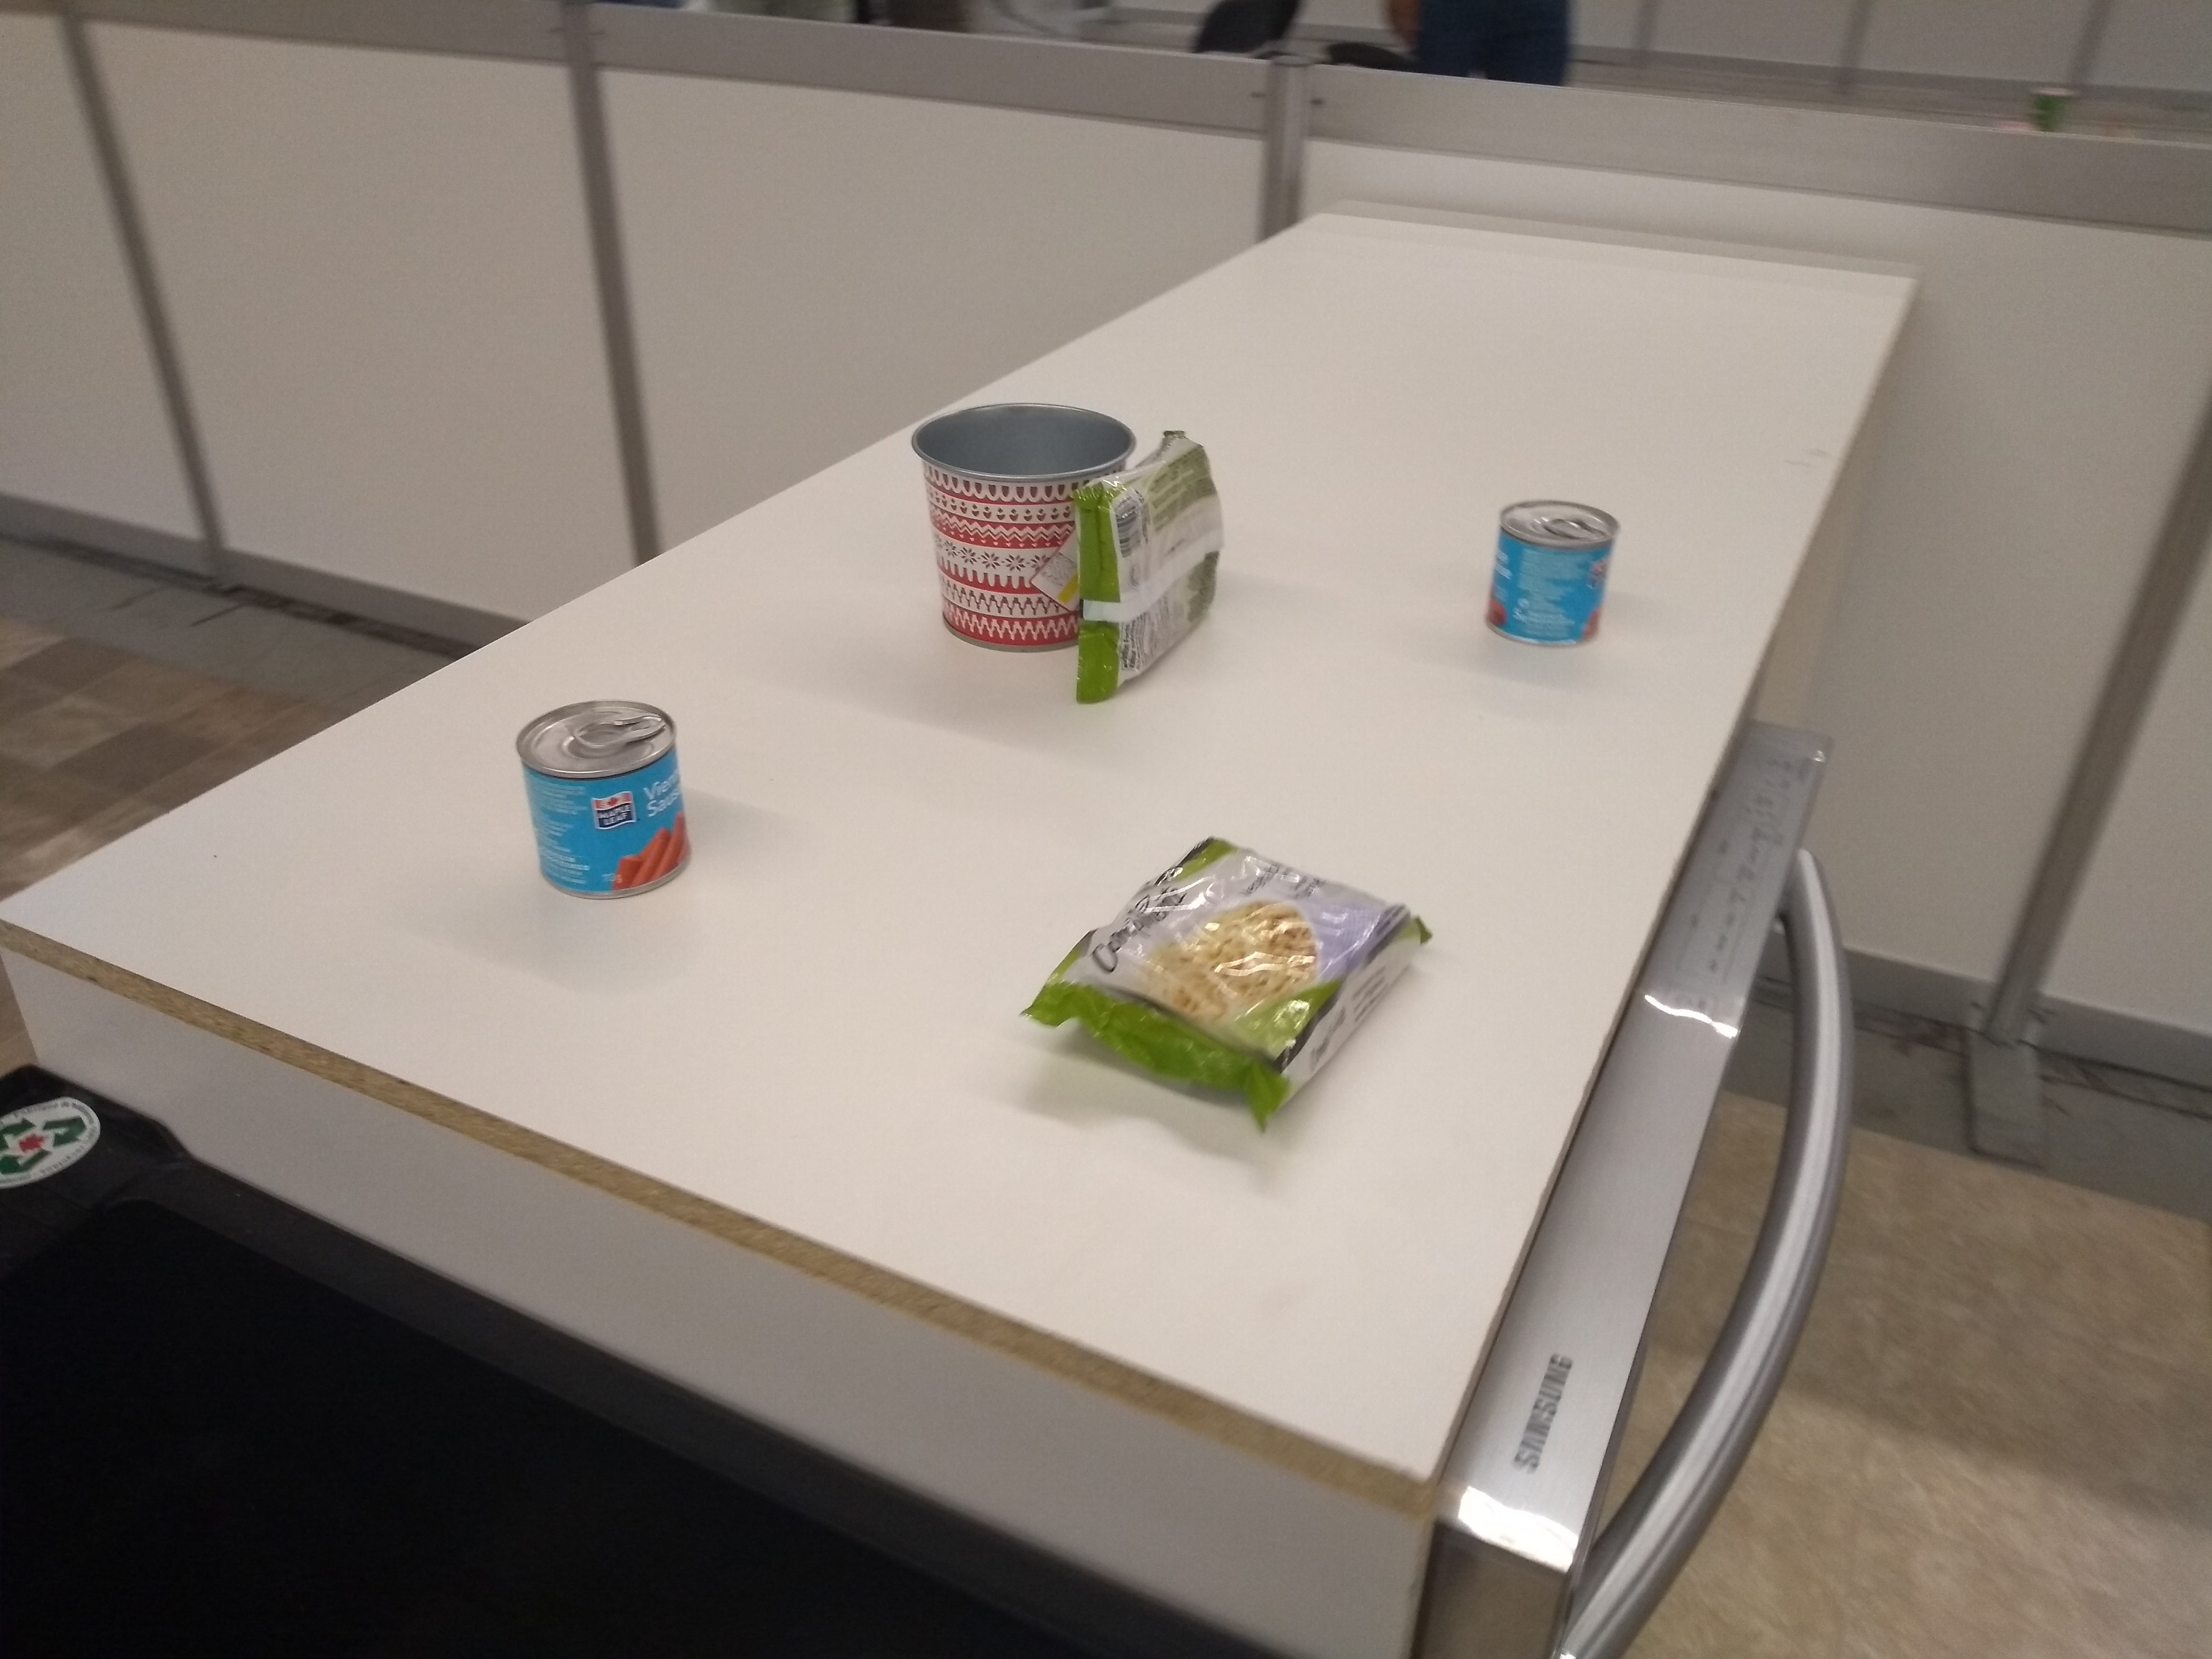noodles: (1010, 826, 1442, 1154), (1052, 423, 1235, 713)
sausages: (505, 690, 700, 915), (1477, 491, 1620, 652)
